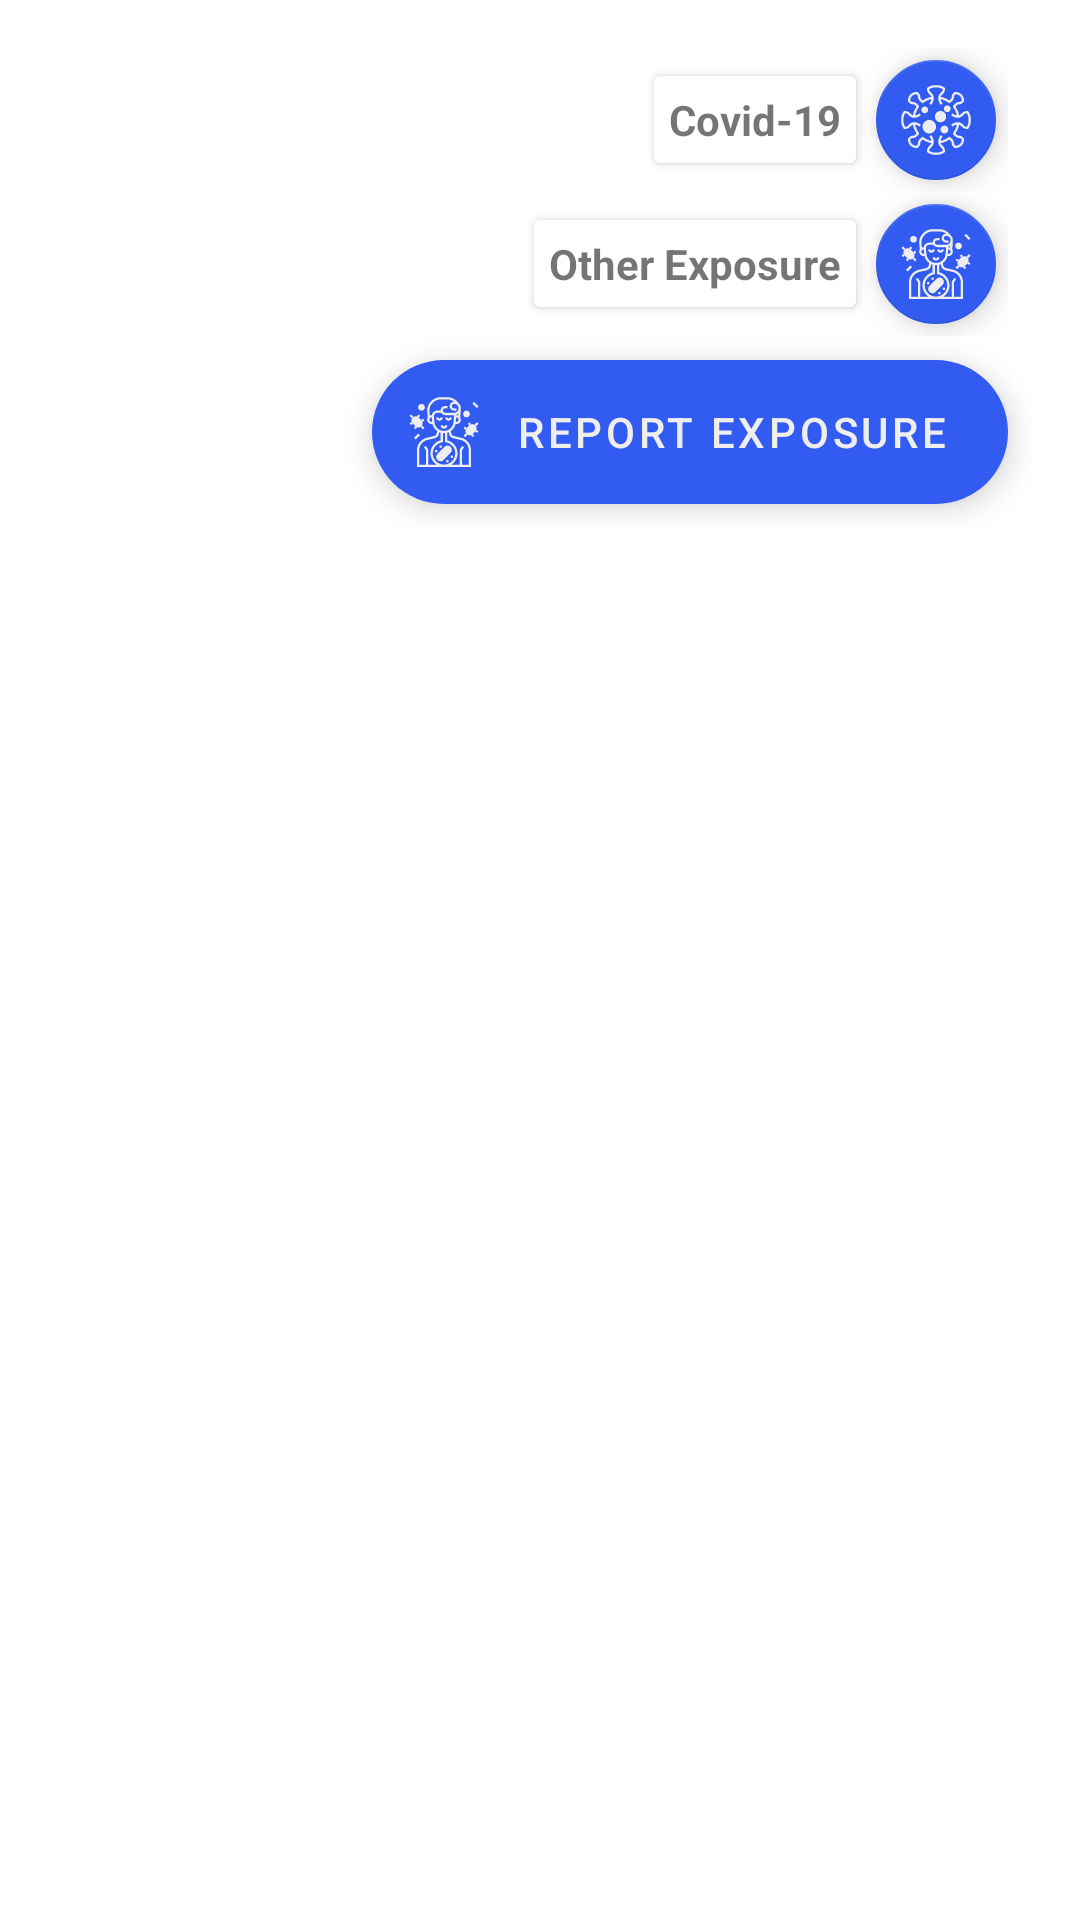

Icon bounding boxes for this 1080×1920 phone screenshot, format region(x1, y1, x2, y2):
coronavirus: region(876, 60, 998, 180)
